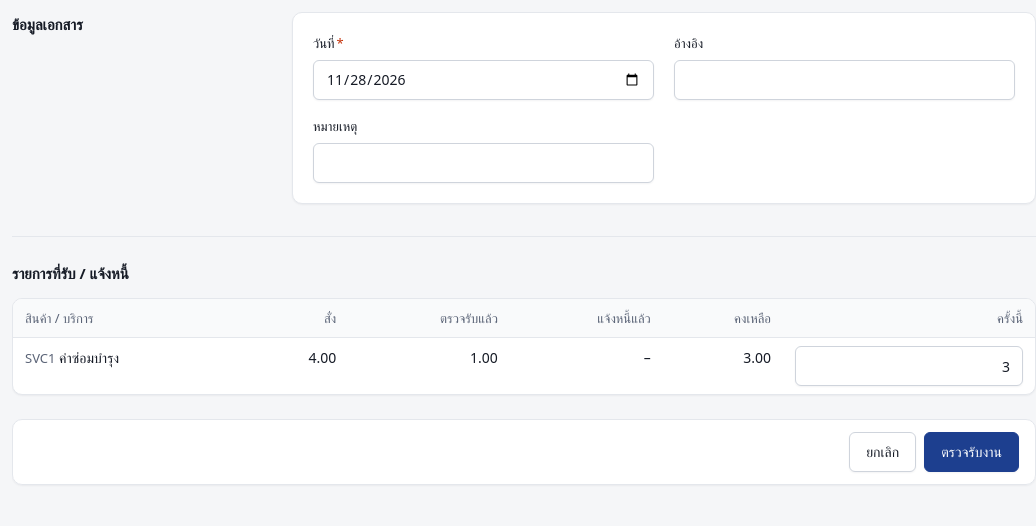
Test: ตรวจรับงาน › ตรวจรับเกินที่ค้าง = แจ้งที่ช่อง ไม่ส่ง; ไม่มีช่องคลัง
Later steps or results of the test are not shown.
Expected: the column heading "ตรวจรับแล้ว" is shown, [348,299,510,338]
Replace the text in the field labelled "ครั้งนี้ SVC1" with "4" at (909, 366), box [796,347,1022,385]
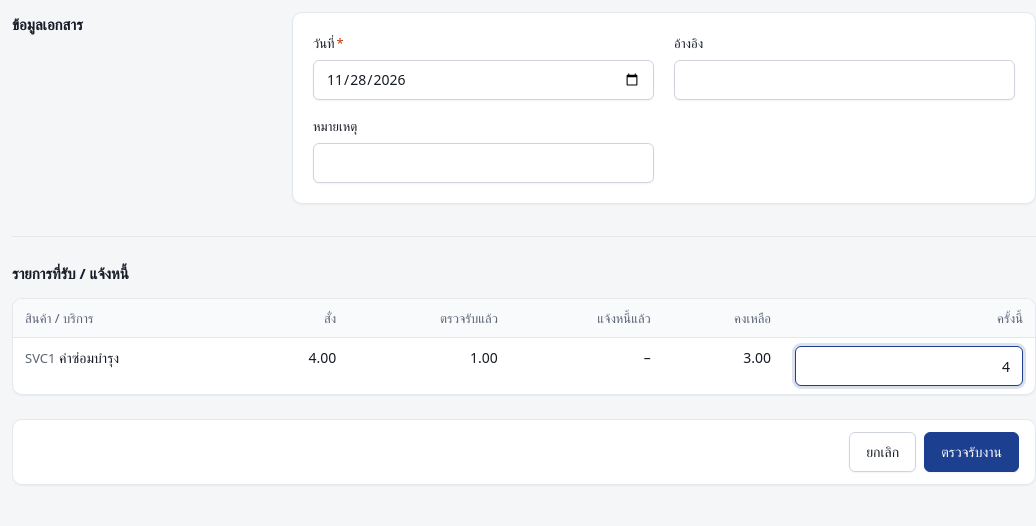
Click the button "ตรวจรับงาน".
click(972, 452)  # box [924,432,1019,472]
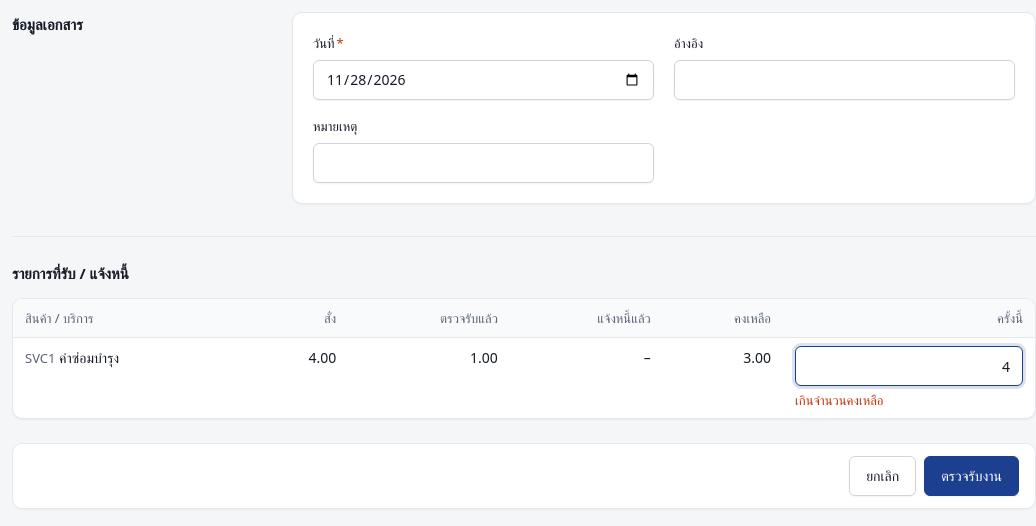
Result: the text "เกินจำนวนคงเหลือ" is shown at [795,391,884,409]
